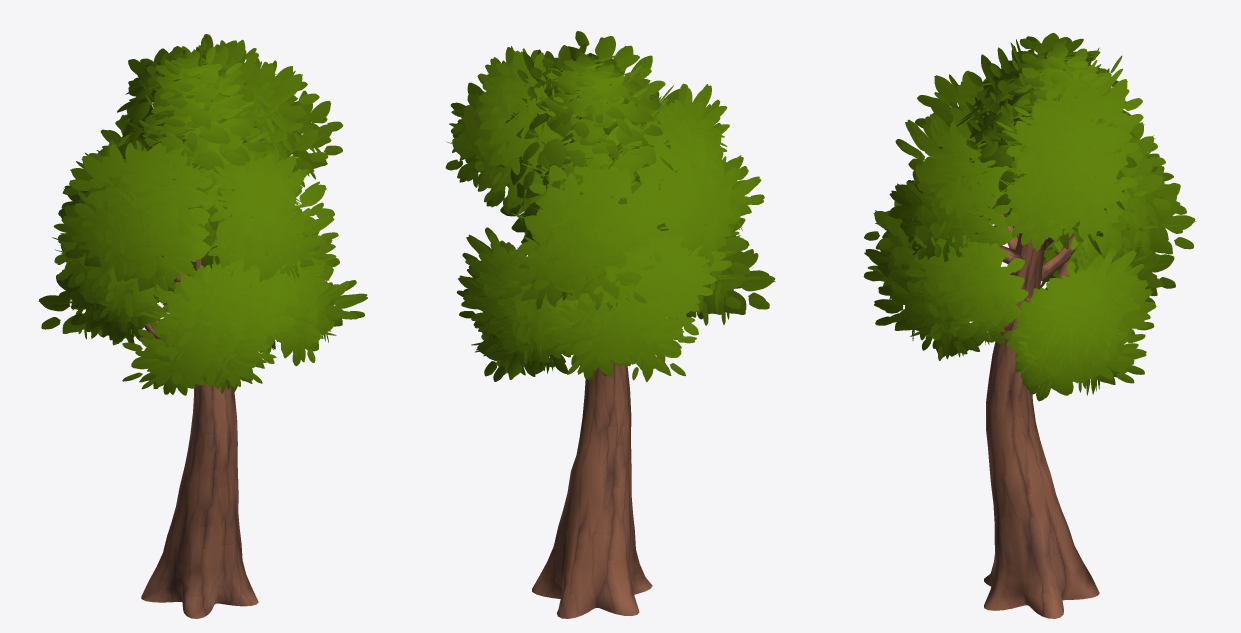
The model's file is CommonTree_1.gltf.
The picture shows the model from 3 angles, left to right: view 1: azimuth 30°, elevation 25°; view 2: azimuth 150°, elevation 25°; view 3: azimuth 270°, elevation 25°; orthographic projection. The views are drawn at different scales.
Visible parts, largest first — view 1: CommonTree_1; view 2: CommonTree_1; view 3: CommonTree_1.
Boxes of the visible parts, x1,y1,x2,y2 form: CommonTree_1: (38,34,367,618); CommonTree_1: (445,31,775,618); CommonTree_1: (863,33,1196,618).
Bounding box in the file's own units: 4.31 × 7.26 × 4.58.
2 materials, 2 textured.
